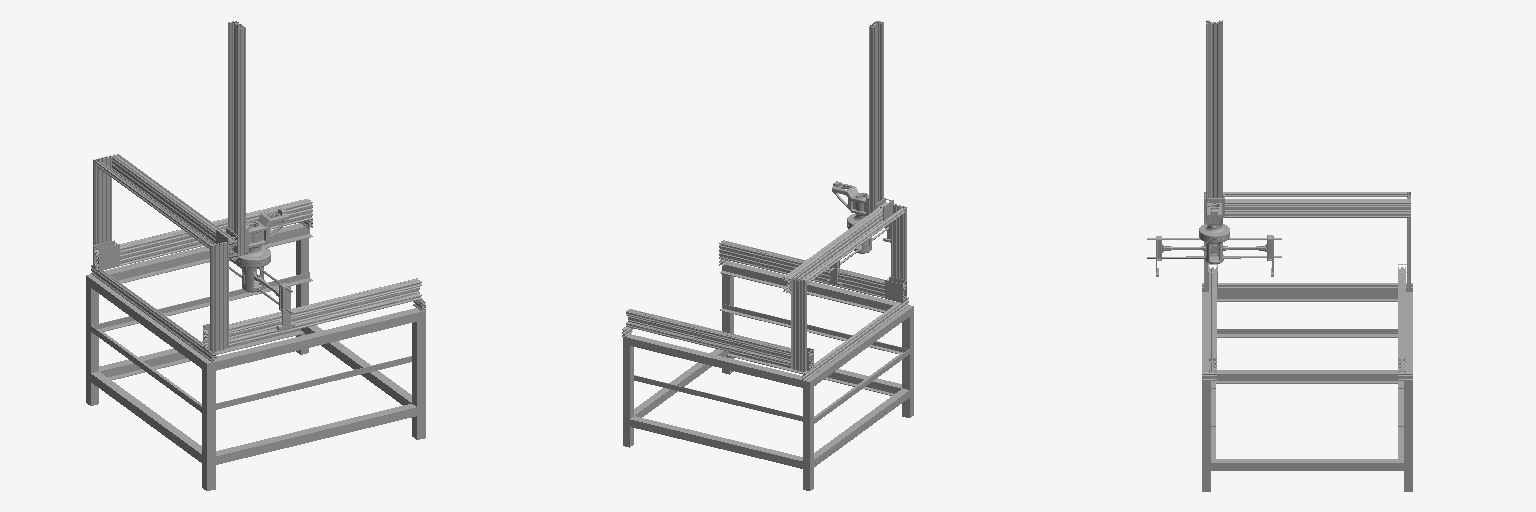
robot.urdf — robot_ensamble:
<?xml version="1.0" ?>
<!-- =================================================================================== -->
<!-- |    This document was autogenerated by xacro from src/robot_ensamble_description/urdf/robot_ensamble.xacro | -->
<!-- |    EDITING THIS FILE BY HAND IS NOT RECOMMENDED                                 | -->
<!-- =================================================================================== -->
<robot name="robot_ensamble">
  <material name="silver">
    <color rgba="0.700 0.700 0.700 1.000"/>
  </material>
  <link name="base_link">
    <inertial>
      <origin rpy="0 0 0" xyz="0.40917645423699256 0.4610253880844107 0.3620181857362518"/>
      <mass value="117.52823039700941"/>
      <inertia ixx="25.806076" ixy="-0.011239" ixz="1.368512" iyy="22.489346" iyz="0.003272" izz="36.590381"/>
    </inertial>
    <visual>
      <origin rpy="0 0 0" xyz="0 0 0"/>
      <geometry>
        <mesh filename="../meshes/base_link.stl" scale="0.001 0.001 0.001"/>
      </geometry>
      <material name="silver"/>
    </visual>
    <collision>
      <origin rpy="0 0 0" xyz="0 0 0"/>
      <geometry>
        <mesh filename="../meshes/base_link.stl" scale="0.001 0.001 0.001"/>
      </geometry>
    </collision>
  </link>
  <link name="x_link_1">
    <inertial>
      <origin rpy="0 0 0" xyz="0.07555855369126223 0.4303889916943565 0.35024537371790165"/>
      <mass value="4.217725934641851"/>
      <inertia ixx="0.681784" ixy="-3.2e-05" ixz="-0.00924" iyy="0.0999" iyz="0.000114" izz="0.593813"/>
    </inertial>
    <visual>
      <origin rpy="0 0 0" xyz="0.02001 -0.03 -0.6215"/>
      <geometry>
        <mesh filename="../meshes/x_link_1.stl" scale="0.001 0.001 0.001"/>
      </geometry>
      <material name="silver"/>
    </visual>
    <collision>
      <origin rpy="0 0 0" xyz="0.02001 -0.03 -0.6215"/>
      <geometry>
        <mesh filename="../meshes/x_link_1.stl" scale="0.001 0.001 0.001"/>
      </geometry>
    </collision>
  </link>
  <link name="y_link_1">
    <inertial>
      <origin rpy="0 0 0" xyz="-0.020000000000001017 0.04999970476181406 0.05069592675514922"/>
      <mass value="0.7973307511653405"/>
      <inertia ixx="0.001358" ixy="0.0" ixz="0.0" iyy="0.001079" iyz="-0.0" izz="0.00108"/>
    </inertial>
    <visual>
      <origin rpy="0 0 0" xyz="-0.10999 0.0325 -1.023"/>
      <geometry>
        <mesh filename="../meshes/y_link_1.stl" scale="0.001 0.001 0.001"/>
      </geometry>
      <material name="silver"/>
    </visual>
    <collision>
      <origin rpy="0 0 0" xyz="-0.10999 0.0325 -1.023"/>
      <geometry>
        <mesh filename="../meshes/y_link_1.stl" scale="0.001 0.001 0.001"/>
      </geometry>
    </collision>
  </link>
  <link name="z_link_1">
    <inertial>
      <origin rpy="0 0 0" xyz="0.022649381038524527 0.038487124708174 0.5174999999999996"/>
      <mass value="6.4060223481477445"/>
      <inertia ixx="0.576368" ixy="1e-06" ixz="0.0" iyy="0.5728" iyz="0.0" izz="0.005452"/>
    </inertial>
    <visual>
      <origin rpy="0 0 0" xyz="-0.11499 0.0325 -1.023"/>
      <geometry>
        <mesh filename="../meshes/z_link_1.stl" scale="0.001 0.001 0.001"/>
      </geometry>
      <material name="silver"/>
    </visual>
    <collision>
      <origin rpy="0 0 0" xyz="-0.11499 0.0325 -1.023"/>
      <geometry>
        <mesh filename="../meshes/z_link_1.stl" scale="0.001 0.001 0.001"/>
      </geometry>
    </collision>
  </link>
  <link name="complemento_cabezal_1">
    <inertial>
      <origin rpy="0 0 0" xyz="0.0029999999999990867 -2.940460960589031e-07 0.06250000000000044"/>
      <mass value="0.060885189763587116"/>
      <inertia ixx="0.000106" ixy="-0.0" ixz="0.0" iyy="7.8e-05" iyz="-0.0" izz="2.8e-05"/>
    </inertial>
    <visual>
      <origin rpy="0 0 0" xyz="-0.15499 -0.006 -1.023"/>
      <geometry>
        <mesh filename="../meshes/complemento_cabezal_1.stl" scale="0.001 0.001 0.001"/>
      </geometry>
      <material name="silver"/>
    </visual>
    <collision>
      <origin rpy="0 0 0" xyz="-0.15499 -0.006 -1.023"/>
      <geometry>
        <mesh filename="../meshes/complemento_cabezal_1.stl" scale="0.001 0.001 0.001"/>
      </geometry>
    </collision>
  </link>
  <link name="robot_cabezal_1">
    <inertial>
      <origin rpy="0 0 0" xyz="0.07470375860725328 1.1761516747066901e-05 0.07435169471155789"/>
      <mass value="0.735233698589477"/>
      <inertia ixx="0.001161" ixy="-0.0" ixz="-0.000677" iyy="0.002962" iyz="-0.0" izz="0.002526"/>
    </inertial>
    <visual>
      <origin rpy="0 0 0" xyz="-0.16099 -0.006 -1.023"/>
      <geometry>
        <mesh filename="../meshes/robot_cabezal_1.stl" scale="0.001 0.001 0.001"/>
      </geometry>
      <material name="silver"/>
    </visual>
    <collision>
      <origin rpy="0 0 0" xyz="-0.16099 -0.006 -1.023"/>
      <geometry>
        <mesh filename="../meshes/robot_cabezal_1.stl" scale="0.001 0.001 0.001"/>
      </geometry>
    </collision>
  </link>
  <link name="acople_cabeza_1">
    <inertial>
      <origin rpy="0 0 0" xyz="1.0269562977782698e-15 -2.940460989220642e-07 -0.03529715770244457"/>
      <mass value="0.43485593621650237"/>
      <inertia ixx="0.000618" ixy="-0.0" ixz="0.0" iyy="0.000617" iyz="-0.0" izz="0.001131"/>
    </inertial>
    <visual>
      <origin rpy="0 0 0" xyz="-0.21099 -0.006 -1.0375"/>
      <geometry>
        <mesh filename="../meshes/acople_cabeza_1.stl" scale="0.001 0.001 0.001"/>
      </geometry>
      <material name="silver"/>
    </visual>
    <collision>
      <origin rpy="0 0 0" xyz="-0.21099 -0.006 -1.0375"/>
      <geometry>
        <mesh filename="../meshes/acople_cabeza_1.stl" scale="0.001 0.001 0.001"/>
      </geometry>
    </collision>
  </link>
  <link name="cabezal_inferior_1">
    <inertial>
      <origin rpy="0 0 0" xyz="-0.0032788461990195805 -2.0130890143960425e-05 -0.05001506846643888"/>
      <mass value="0.808298897205994"/>
      <inertia ixx="0.002812" ixy="-0.0" ixz="-8.5e-05" iyy="0.002837" iyz="-1e-06" izz="0.001617"/>
    </inertial>
    <visual>
      <origin rpy="0 0 0" xyz="-0.21099 -0.006 -0.988"/>
      <geometry>
        <mesh filename="../meshes/cabezal_inferior_1.stl" scale="0.001 0.001 0.001"/>
      </geometry>
      <material name="silver"/>
    </visual>
    <collision>
      <origin rpy="0 0 0" xyz="-0.21099 -0.006 -0.988"/>
      <geometry>
        <mesh filename="../meshes/cabezal_inferior_1.stl" scale="0.001 0.001 0.001"/>
      </geometry>
    </collision>
  </link>
  <link name="servo_mg996R_1">
    <inertial>
      <origin rpy="0 0 0" xyz="-0.008872223124901296 0.004961019065706306 0.02474433155171829"/>
      <mass value="0.24706042811522722"/>
      <inertia ixx="4.3e-05" ixy="-0.0" ixz="-0.0" iyy="6.5e-05" iyz="-0.0" izz="3.8e-05"/>
    </inertial>
    <visual>
      <origin rpy="0 0 0" xyz="-0.190512 -0.00091 -0.8725"/>
      <geometry>
        <mesh filename="../meshes/servo_mg996R_1.stl" scale="0.001 0.001 0.001"/>
      </geometry>
      <material name="silver"/>
    </visual>
    <collision>
      <origin rpy="0 0 0" xyz="-0.190512 -0.00091 -0.8725"/>
      <geometry>
        <mesh filename="../meshes/servo_mg996R_1.stl" scale="0.001 0.001 0.001"/>
      </geometry>
    </collision>
  </link>
  <link name="horn_Servo_1">
    <inertial>
      <origin rpy="0 0 0" xyz="0.0031874891212040346 1.4413294836576607e-05 -1.4432899320127035e-15"/>
      <mass value="0.005099610361289279"/>
      <!-- Estimacion por integracion del STL a escala metrica y densidad uniforme,
         con la masa y el origen inercial CAD originales; unidades kg*m^2. -->
      <inertia ixx="2.4043692089e-07" ixy="5.0477842017e-10" ixz="2.4812060723e-16" iyy="1.2530990918e-07" iyz="-5.3076659018e-16" izz="1.2530779899e-07"/>
    </inertial>
    <visual>
      <origin rpy="0 0 0" xyz="-0.20249 -0.005962 -0.907"/>
      <geometry>
        <mesh filename="../meshes/horn_Servo_1.stl" scale="0.001 0.001 0.001"/>
      </geometry>
      <material name="silver"/>
    </visual>
    <collision>
      <origin rpy="0 0 0" xyz="-0.20249 -0.005962 -0.907"/>
      <geometry>
        <mesh filename="../meshes/horn_Servo_1.stl" scale="0.001 0.001 0.001"/>
      </geometry>
    </collision>
  </link>
  <link name="acople_palas_1">
    <inertial>
      <origin rpy="0 0 0" xyz="0.0011958116261007457 5.411013636849767e-06 -1.1102230246251565e-15"/>
      <mass value="0.07977197198617901"/>
      <inertia ixx="3e-05" ixy="0.0" ixz="0.0" iyy="5e-06" iyz="-0.0" izz="2.6e-05"/>
    </inertial>
    <visual>
      <origin rpy="0 0 0" xyz="-0.20699 -0.005982 -0.907"/>
      <geometry>
        <mesh filename="../meshes/acople_palas_1.stl" scale="0.001 0.001 0.001"/>
      </geometry>
      <material name="silver"/>
    </visual>
    <collision>
      <origin rpy="0 0 0" xyz="-0.20699 -0.005982 -0.907"/>
      <geometry>
        <mesh filename="../meshes/acople_palas_1.stl" scale="0.001 0.001 0.001"/>
      </geometry>
    </collision>
  </link>
  <link name="Paleta_grid_1_1">
    <inertial>
      <origin rpy="0 0 0" xyz="0.0053689397680850015 -0.10697776945786946 2.2922719722373586e-08"/>
      <mass value="0.05350927460261899"/>
      <inertia ixx="0.000258" ixy="1e-06" ixz="0.0" iyy="3e-06" iyz="-0.0" izz="0.000259"/>
    </inertial>
    <visual>
      <origin rpy="0 0 0" xyz="-0.2041 0.019031 -0.907"/>
      <geometry>
        <mesh filename="../meshes/Paleta_grid_1_1.stl" scale="0.001 0.001 0.001"/>
      </geometry>
      <material name="silver"/>
    </visual>
    <collision>
      <origin rpy="0 0 0" xyz="-0.2041 0.019031 -0.907"/>
      <geometry>
        <mesh filename="../meshes/Paleta_grid_1_1.stl" scale="0.001 0.001 0.001"/>
      </geometry>
    </collision>
  </link>
  <link name="Paleta_grid_2_1">
    <inertial>
      <origin rpy="0 0 0" xyz="0.0044314451289368395 0.10701969304160405 2.2922718723172864e-08"/>
      <mass value="0.05350927460261899"/>
      <inertia ixx="0.000258" ixy="1e-06" ixz="0.0" iyy="3e-06" iyz="-0.0" izz="0.000259"/>
    </inertial>
    <visual>
      <origin rpy="0 0 0" xyz="-0.20388 -0.030969 -0.907"/>
      <geometry>
        <mesh filename="../meshes/Paleta_grid_2_1.stl" scale="0.001 0.001 0.001"/>
      </geometry>
      <material name="silver"/>
    </visual>
    <collision>
      <origin rpy="0 0 0" xyz="-0.20388 -0.030969 -0.907"/>
      <geometry>
        <mesh filename="../meshes/Paleta_grid_2_1.stl" scale="0.001 0.001 0.001"/>
      </geometry>
    </collision>
  </link>
  <link name="Pala_DER_1">
    <inertial>
      <origin rpy="0 0 0" xyz="-0.003882699651938215 -0.02679462902139154 -0.019023121817094202"/>
      <mass value="0.1680843406216635"/>
      <inertia ixx="0.000488" ixy="-0.0" ixz="0.0" iyy="0.000494" iyz="-2.9e-05" izz="4.1e-05"/>
    </inertial>
    <visual>
      <origin rpy="0 0 0" xyz="-0.214838 0.232986 -0.907"/>
      <geometry>
        <mesh filename="../meshes/Pala_DER_1.stl" scale="0.001 0.001 0.001"/>
      </geometry>
      <material name="silver"/>
    </visual>
    <collision>
      <origin rpy="0 0 0" xyz="-0.214838 0.232986 -0.907"/>
      <geometry>
        <mesh filename="../meshes/Pala_DER_1.stl" scale="0.001 0.001 0.001"/>
      </geometry>
    </collision>
  </link>
  <link name="Pala_IZQ_1">
    <inertial>
      <origin rpy="0 0 0" xyz="-0.004117276449750684 0.02675951802045834 -0.019023121425130296"/>
      <mass value="0.16808434411260517"/>
      <inertia ixx="0.000488" ixy="-0.0" ixz="-0.0" iyy="0.000494" iyz="2.9e-05" izz="4.1e-05"/>
    </inertial>
    <visual>
      <origin rpy="0 0 0" xyz="-0.212742 -0.24501 -0.907"/>
      <geometry>
        <mesh filename="../meshes/Pala_IZQ_1.stl" scale="0.001 0.001 0.001"/>
      </geometry>
      <material name="silver"/>
    </visual>
    <collision>
      <origin rpy="0 0 0" xyz="-0.212742 -0.24501 -0.907"/>
      <geometry>
        <mesh filename="../meshes/Pala_IZQ_1.stl" scale="0.001 0.001 0.001"/>
      </geometry>
    </collision>
  </link>
  <link name="Soporte_1_1">
    <inertial>
      <origin rpy="0 0 0" xyz="-0.0014025605651105388 0.319996882281929 -2.220446049250313e-15"/>
      <mass value="0.07497096708526683"/>
      <inertia ixx="0.00256" ixy="1.1e-05" ixz="0.0" iyy="2e-06" iyz="0.0" izz="0.00256"/>
    </inertial>
    <visual>
      <origin rpy="0 0 0" xyz="-0.211187 0.039037 -0.955"/>
      <geometry>
        <mesh filename="../meshes/Soporte_1_1.stl" scale="0.001 0.001 0.001"/>
      </geometry>
      <material name="silver"/>
    </visual>
    <collision>
      <origin rpy="0 0 0" xyz="-0.211187 0.039037 -0.955"/>
      <geometry>
        <mesh filename="../meshes/Soporte_1_1.stl" scale="0.001 0.001 0.001"/>
      </geometry>
    </collision>
  </link>
  <link name="Soporte_2_1">
    <inertial>
      <origin rpy="0 0 0" xyz="-0.0014028765290944045 0.31999694627881303 -1.1102230246251565e-15"/>
      <mass value="0.07497096708526683"/>
      <inertia ixx="0.00256" ixy="1.1e-05" ixz="-0.0" iyy="2e-06" iyz="-0.0" izz="0.00256"/>
    </inertial>
    <visual>
      <origin rpy="0 0 0" xyz="-0.211187 0.038965 -0.859"/>
      <geometry>
        <mesh filename="../meshes/Soporte_2_1.stl" scale="0.001 0.001 0.001"/>
      </geometry>
      <material name="silver"/>
    </visual>
    <collision>
      <origin rpy="0 0 0" xyz="-0.211187 0.038965 -0.859"/>
      <geometry>
        <mesh filename="../meshes/Soporte_2_1.stl" scale="0.001 0.001 0.001"/>
      </geometry>
    </collision>
  </link>
  <joint name="x_link" type="prismatic">
    <origin rpy="0 0 0" xyz="-0.02001 0.031 0.6215"/>
    <parent link="base_link"/>
    <child link="x_link_1"/>
    <axis xyz="-1.0 0.0 0.0"/>
    <limit effort="100" lower="-0.9" upper="0.0" velocity="100"/>
  </joint>
  <joint name="y_link" type="prismatic">
    <origin rpy="0 0 0" xyz="0.13 -0.0625 0.4015"/>
    <parent link="x_link_1"/>
    <child link="y_link_1"/>
    <axis xyz="-0.0 1.0 -0.0"/>
    <limit effort="100" lower="0.0" upper="0.65" velocity="100"/>
  </joint>
  <joint name="z_link" type="prismatic">
    <origin rpy="0 0 0" xyz="0.005 0.0115 0.0"/>
    <parent link="y_link_1"/>
    <child link="z_link_1"/>
    <axis xyz="0.0 -0.0 -1.0"/>
    <limit effort="100" lower="0.0" upper="0.935" velocity="100"/>
  </joint>
  <joint name="rig_1" type="fixed">
    <origin rpy="0 0 0" xyz="0.04 0.0385 0.0"/>
    <parent link="z_link_1"/>
    <child link="complemento_cabezal_1"/>
  </joint>
  <joint name="rig_2" type="fixed">
    <origin rpy="0 0 0" xyz="0.006 0.0 0.0"/>
    <parent link="complemento_cabezal_1"/>
    <child link="robot_cabezal_1"/>
  </joint>
  <joint name="r_joint" type="revolute">
    <origin rpy="0 0 0" xyz="0.05 0.0 0.0145"/>
    <parent link="robot_cabezal_1"/>
    <child link="acople_cabeza_1"/>
    <axis xyz="0.0 -0.0 -1.0"/>
    <limit effort="100" lower="-1.570796" upper="1.570796" velocity="100"/>
  </joint>
  <joint name="rig_3" type="fixed">
    <origin rpy="0 0 0" xyz="0.0 0.0 -0.0495"/>
    <parent link="acople_cabeza_1"/>
    <child link="cabezal_inferior_1"/>
  </joint>
  <joint name="rig_4" type="fixed">
    <origin rpy="0 0 0" xyz="-0.020478 -0.00509 -0.1155"/>
    <parent link="cabezal_inferior_1"/>
    <child link="servo_mg996R_1"/>
  </joint>
  <joint name="rig_5" type="fixed">
    <origin rpy="0 0 0" xyz="0.011978 0.005052 0.0345"/>
    <parent link="servo_mg996R_1"/>
    <child link="horn_Servo_1"/>
  </joint>
  <joint name="rig_6" type="fixed">
    <origin rpy="0 0 0" xyz="0.0045 2e-05 0.0"/>
    <parent link="horn_Servo_1"/>
    <child link="acople_palas_1"/>
  </joint>
  <joint name="grid_der" type="prismatic">
    <origin rpy="0 0 0" xyz="-0.00289 -0.025013 0.0"/>
    <parent link="acople_palas_1"/>
    <child link="Paleta_grid_1_1"/>
    <axis xyz="0.004384 -0.99999 0.0"/>
    <limit effort="100" lower="-0.04" upper="0.0" velocity="100"/>
    <mimic joint="grid_izq" multiplier="-1" offset="0"/>
  </joint>
  <joint name="grid_izq" type="prismatic">
    <origin rpy="0 0 0" xyz="-0.00311 0.024987 0.0"/>
    <parent link="acople_palas_1"/>
    <child link="Paleta_grid_2_1"/>
    <axis xyz="0.004384 -0.99999 0.0"/>
    <limit effort="100" lower="0.0" upper="0.04" velocity="100"/>
  </joint>
  <joint name="rig_7" type="fixed">
    <origin rpy="0 0 0" xyz="0.010738 -0.213955 0.0"/>
    <parent link="Paleta_grid_1_1"/>
    <child link="Pala_DER_1"/>
  </joint>
  <joint name="rig_8" type="fixed">
    <origin rpy="0 0 0" xyz="0.008862 0.214041 0.0"/>
    <parent link="Paleta_grid_2_1"/>
    <child link="Pala_IZQ_1"/>
  </joint>
  <joint name="rig_9" type="fixed">
    <origin rpy="0 0 0" xyz="0.000197 -0.32 -0.033"/>
    <parent link="cabezal_inferior_1"/>
    <child link="Soporte_1_1"/>
  </joint>
  <joint name="rig_10" type="fixed">
    <origin rpy="0 0 0" xyz="0.000197 -0.32 -0.129"/>
    <parent link="cabezal_inferior_1"/>
    <child link="Soporte_2_1"/>
  </joint>
</robot>

--- Render facts (derived) ---
3 views of the same robot in one strip: view 1: azimuth 30°, elevation 25°; view 2: azimuth 150°, elevation 25°; view 3: azimuth 270°, elevation 25° (orthographic).
Robot: robot_ensamble — 17 links, 16 joints (1 revolute, 5 prismatic, 10 fixed); root link base_link; default pose: every joint at zero.
Visible links, largest first — view 1: base_link, x_link_1, z_link_1, robot_cabezal_1, cabezal_inferior_1; view 2: base_link, x_link_1, z_link_1, robot_cabezal_1; view 3: base_link, x_link_1, z_link_1.
Boxes of the visible links, x1,y1,x2,y2 form: base_link: [86, 199, 425, 490]; x_link_1: [93, 154, 237, 352]; z_link_1: [228, 21, 245, 255]; robot_cabezal_1: [246, 208, 288, 253]; cabezal_inferior_1: [235, 258, 270, 292]; base_link: [622, 240, 913, 490]; x_link_1: [783, 202, 906, 371]; z_link_1: [869, 21, 883, 213]; robot_cabezal_1: [832, 181, 868, 215]; base_link: [1202, 267, 1412, 491]; x_link_1: [1204, 192, 1410, 290]; z_link_1: [1206, 20, 1222, 220].
Size in the robot's own frame: 1.04 by 1.26 by 2.06 metres.
17 mesh visuals loaded from 17 distinct referenced files (17 binary STL).
